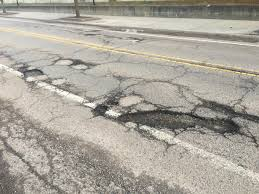pothole: (90, 84, 259, 141), (1, 123, 87, 194), (18, 54, 90, 89), (81, 28, 146, 45)
